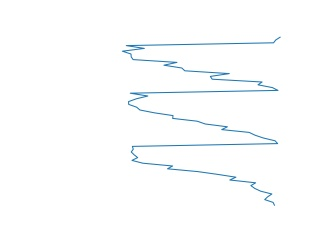distributaryMouthBar: (121, 36, 284, 207)
